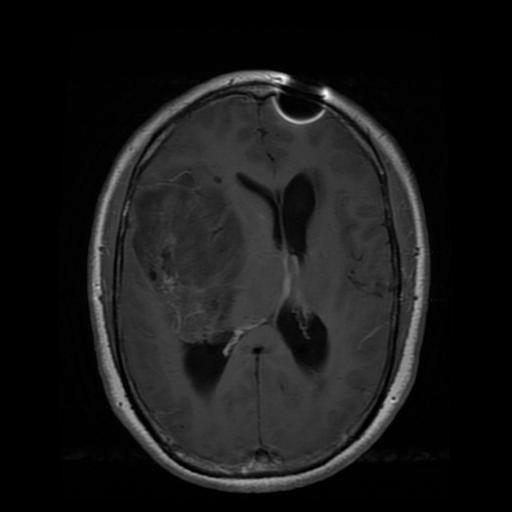Tumour-Glioma: (133, 181, 252, 340)
